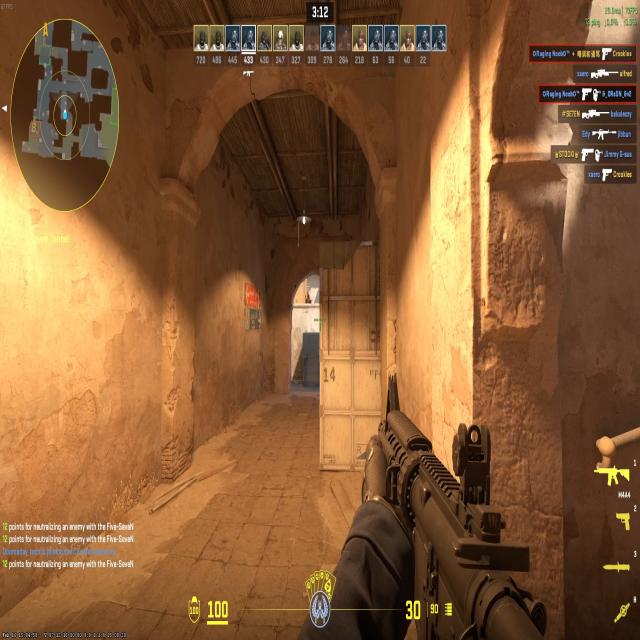player: (303, 291, 313, 309)
